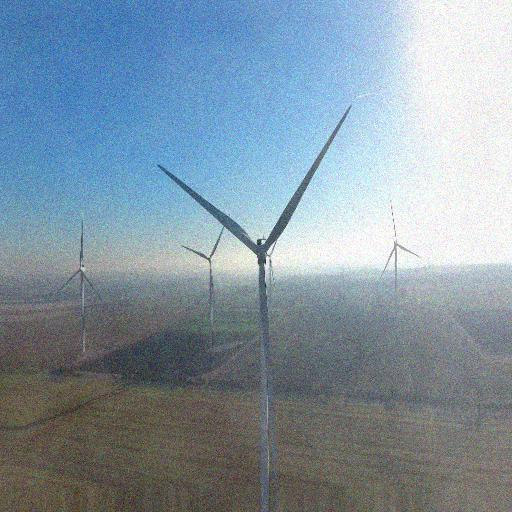wind turbine: (157, 101, 352, 481), (54, 216, 105, 354), (180, 225, 226, 350), (376, 199, 424, 302)
